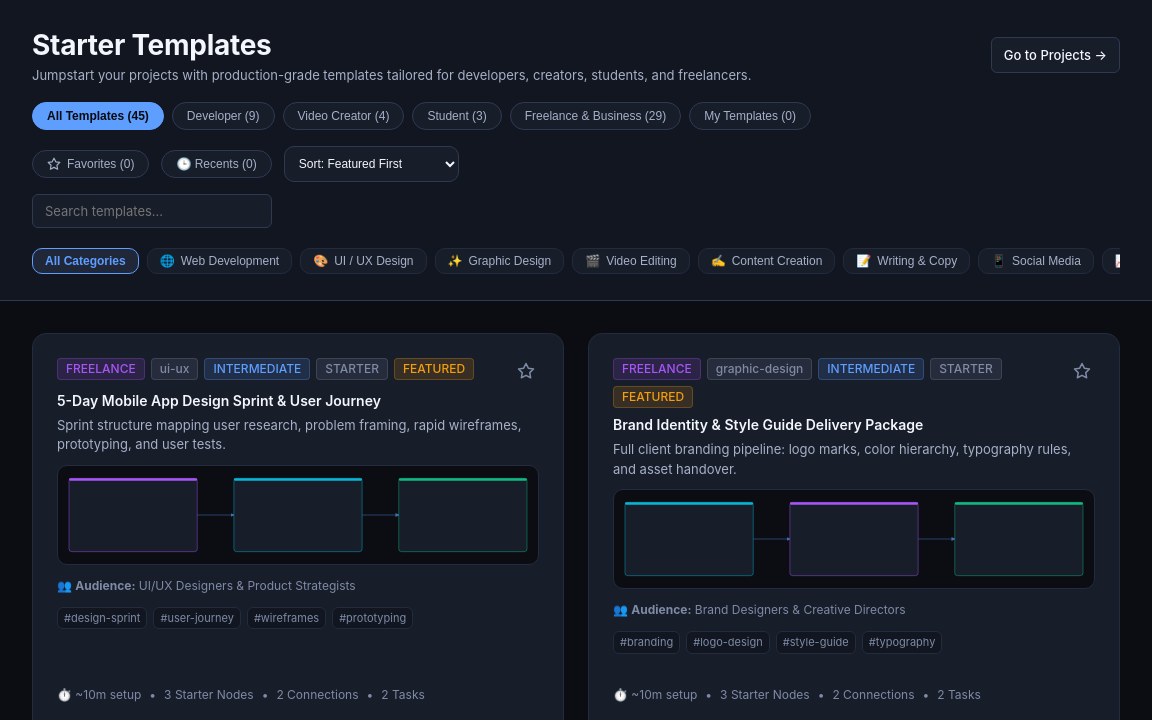
it: Template Gallery View Integration › toggles favorite status when clicking the star button
This screenshot has width=1152, height=720.
Favorite first template
Click the button named "Add to favorites" in the row of "ui-ux".
click(526, 370)  # box [513,358,539,384]
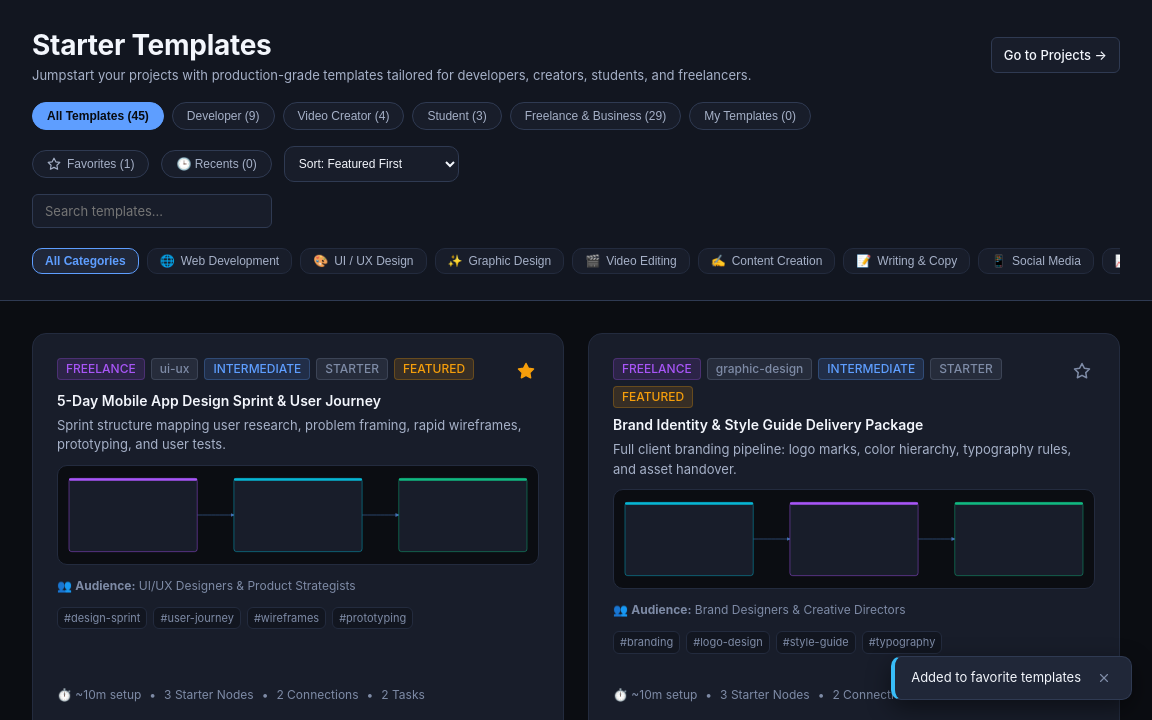
Result: the button named "Remove from favorites" is shown at [513,358,539,384]
